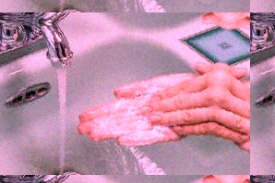washing hand: (0, 16, 213, 182)
